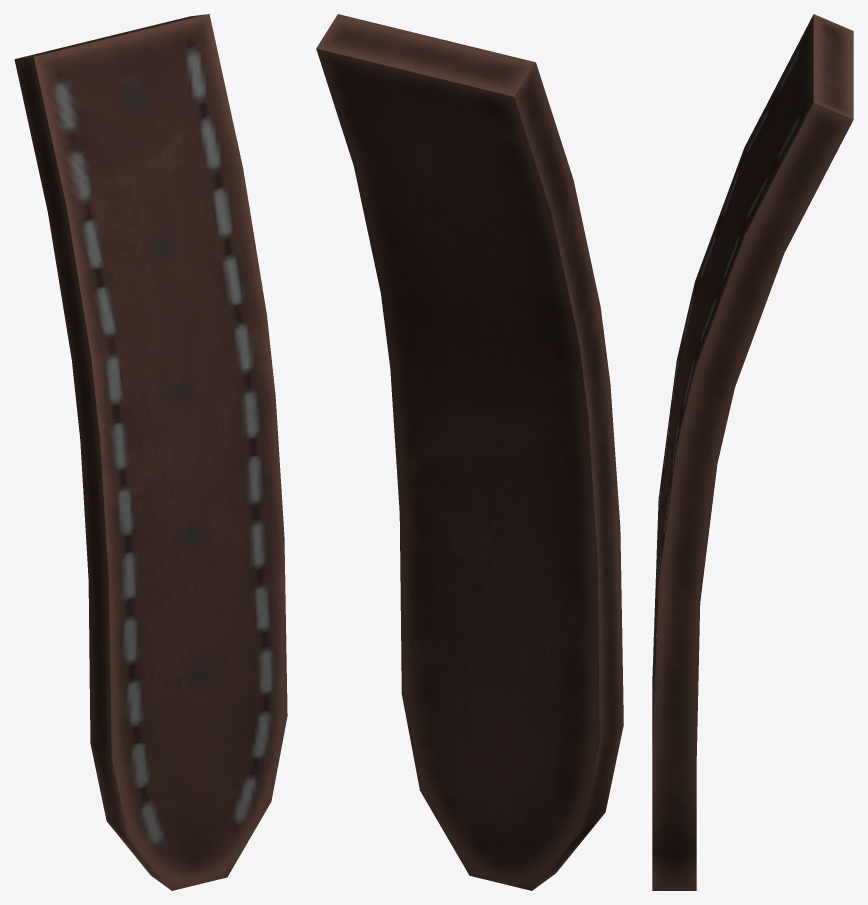
The model's file is StrapEnd_CurvedShort.fbx.
The picture shows the model from 3 angles, left to right: view 1: azimuth 30°, elevation 25°; view 2: azimuth 150°, elevation 25°; view 3: azimuth 270°, elevation 25°; orthographic projection. The views are drawn at different scales.
Visible parts, largest first — view 1: StrapEnd_CurvedShort_LOD0; view 2: StrapEnd_CurvedShort_LOD0; view 3: StrapEnd_CurvedShort_LOD0.
Boxes of the visible parts, box(x1,y1,x2,y2) form: StrapEnd_CurvedShort_LOD0: box(14, 14, 287, 890); StrapEnd_CurvedShort_LOD0: box(316, 14, 623, 890); StrapEnd_CurvedShort_LOD0: box(652, 14, 853, 890).
Size of what is drawn, in the model's own units: 14.01 by 60.29 by 13.44.
